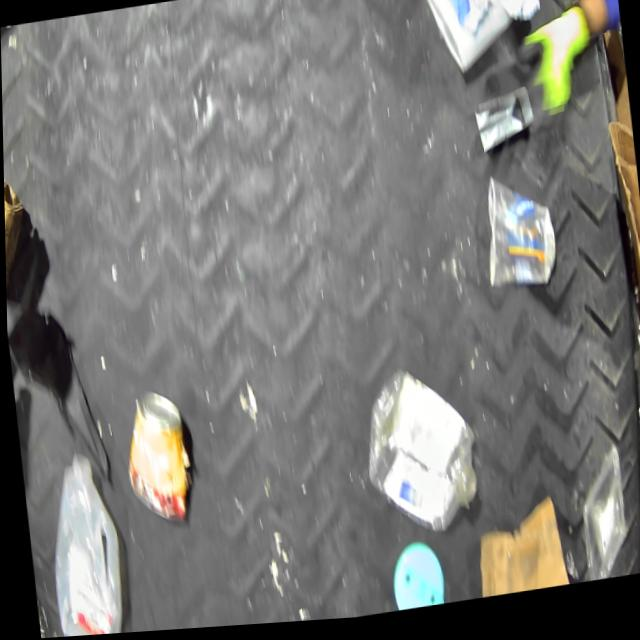can: (115, 383, 195, 536)
milk_jug: (36, 443, 127, 639)
